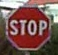stop: (4, 5, 52, 50)
